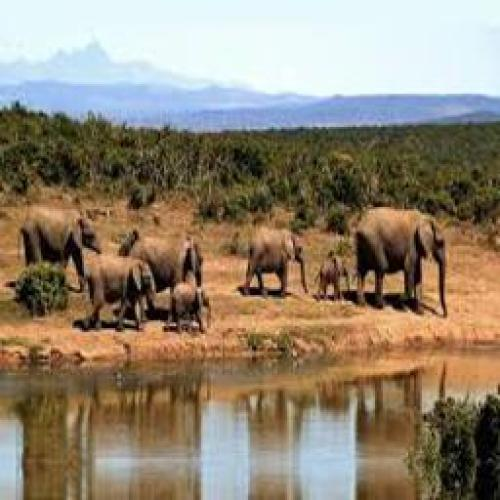african_elephant-endangered: (345, 204, 460, 330), (15, 206, 109, 296), (230, 224, 308, 314), (74, 254, 158, 328), (120, 226, 200, 292), (166, 282, 222, 340), (308, 252, 355, 305)
